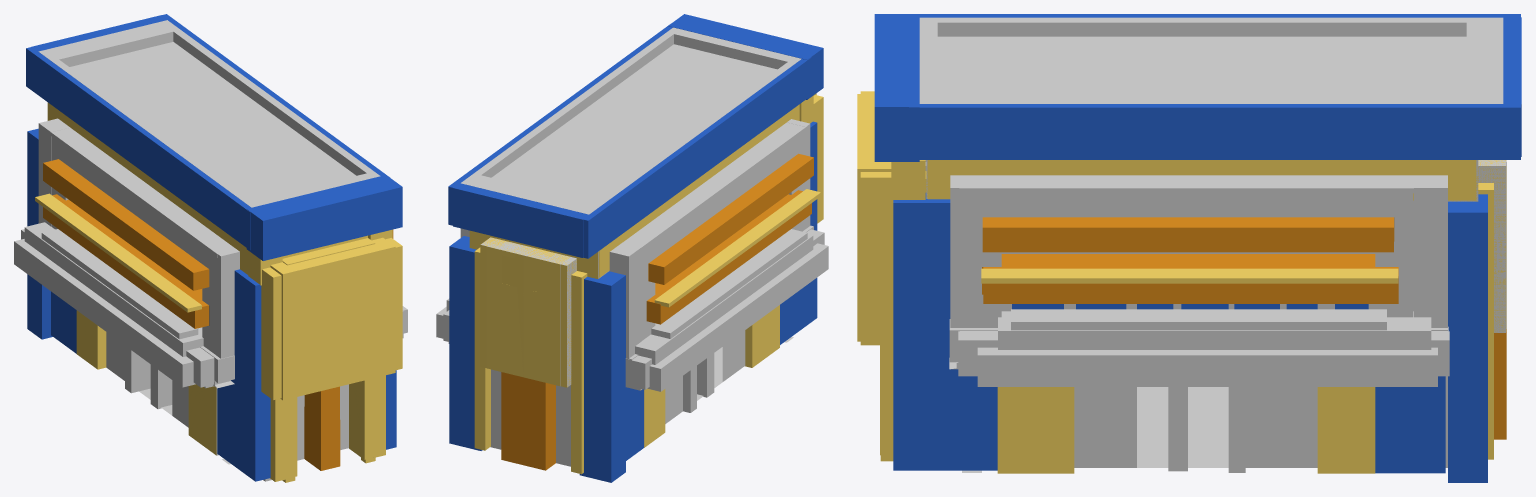
File: building9.glb
3 renders of one model, left to right at view 1: azimuth 30°, elevation 25°; view 2: azimuth 150°, elevation 25°; view 3: azimuth 270°, elevation 25°, orthographic. The views are drawn at different scales.
Visible parts, largest first — view 1: Cube; view 2: Cube; view 3: Cube.
Part boxes in pixels (x1,y1,x2,y2): Cube: (14,14,407,482); Cube: (436,14,828,482); Cube: (857,14,1521,482).
Size of the model in its own units: 438 by 501 by 817.
